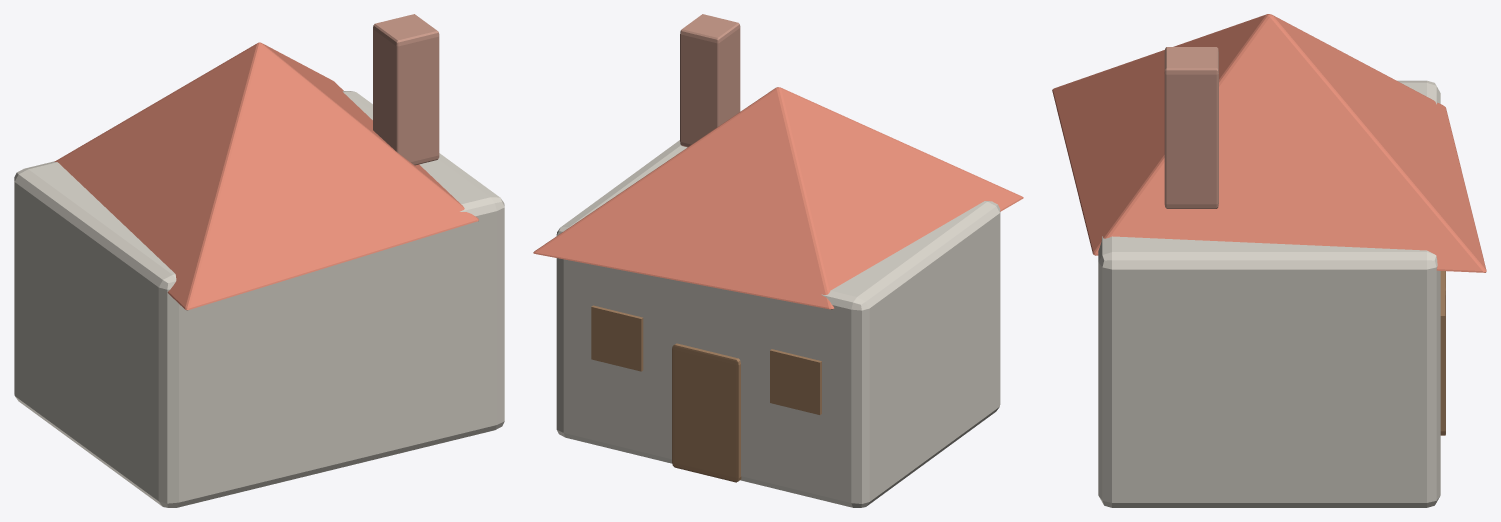
File: doll_house_elder.glb
3 views of the same model, side by side, from view 1: azimuth 30°, elevation 25°; view 2: azimuth 150°, elevation 25°; view 3: azimuth 270°, elevation 25° (orthographic). The views are drawn at different scales.
Parts seen in each view (by area): view 1: Elder_Body, Elder_Roof, Elder_Chimney; view 2: Elder_Body, Elder_Roof, Elder_Door, Elder_Chimney, Elder_Win_1.6, Elder_Win_-1.6; view 3: Elder_Body, Elder_Roof, Elder_Chimney, Elder_Win_1.6, Elder_Door.
Part boxes in pixels (bbox=[...]): Elder_Body: bbox=[14, 91, 504, 507]; Elder_Roof: bbox=[54, 42, 478, 310]; Elder_Chimney: bbox=[373, 14, 439, 165]; Elder_Body: bbox=[556, 140, 1000, 507]; Elder_Roof: bbox=[533, 87, 1023, 309]; Elder_Door: bbox=[672, 343, 741, 482]; Elder_Chimney: bbox=[680, 14, 740, 147]; Elder_Win_1.6: bbox=[591, 305, 643, 371]; Elder_Win_-1.6: bbox=[770, 349, 821, 414]; Elder_Body: bbox=[1098, 80, 1440, 507]; Elder_Roof: bbox=[1052, 14, 1486, 272]; Elder_Chimney: bbox=[1164, 47, 1218, 208]; Elder_Win_1.6: bbox=[1440, 286, 1445, 379]; Elder_Door: bbox=[1440, 271, 1445, 435].
Bounding box in the file's own units: 5.6 × 6 × 5.59.
